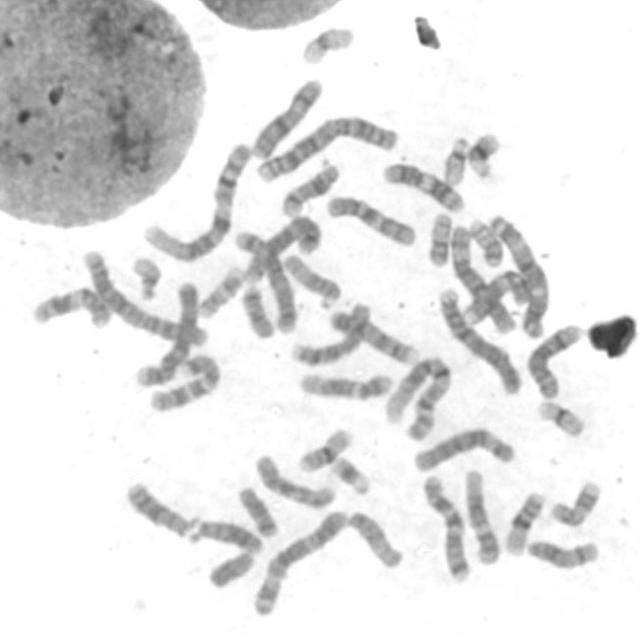A1: (135, 134, 253, 264), (377, 350, 455, 442)
A2: (74, 241, 209, 349), (248, 105, 402, 183)
A3: (245, 503, 350, 619), (484, 206, 554, 339)
B4: (431, 280, 525, 396), (128, 274, 201, 389)
B5: (228, 222, 300, 335), (238, 208, 325, 284)
C10: (320, 188, 419, 248), (248, 446, 339, 511)
C11: (375, 154, 468, 214), (24, 278, 114, 330)
C12: (458, 461, 502, 566), (292, 364, 395, 401)
C6: (444, 217, 520, 334), (406, 421, 518, 474)
C7: (416, 467, 474, 584), (143, 346, 223, 414)
C8: (285, 296, 373, 368), (520, 317, 586, 400)
C9: (324, 302, 420, 366), (456, 265, 536, 326)
D13: (120, 474, 196, 541), (183, 510, 266, 556)
D14: (274, 151, 342, 217), (519, 531, 602, 571)
D15: (340, 505, 406, 571), (278, 247, 344, 308)
E16: (498, 484, 548, 557), (292, 420, 356, 474)
E17: (542, 473, 604, 528), (192, 259, 246, 320)
E18: (230, 479, 280, 539), (235, 278, 278, 339)
F19: (294, 19, 356, 66), (531, 392, 589, 440)
F20: (463, 212, 505, 267), (420, 204, 455, 268)
G21: (461, 123, 503, 182), (325, 449, 373, 497)
G22: (436, 127, 472, 186), (124, 249, 164, 301)
X: (244, 70, 325, 160)
Y: (201, 542, 257, 591)
